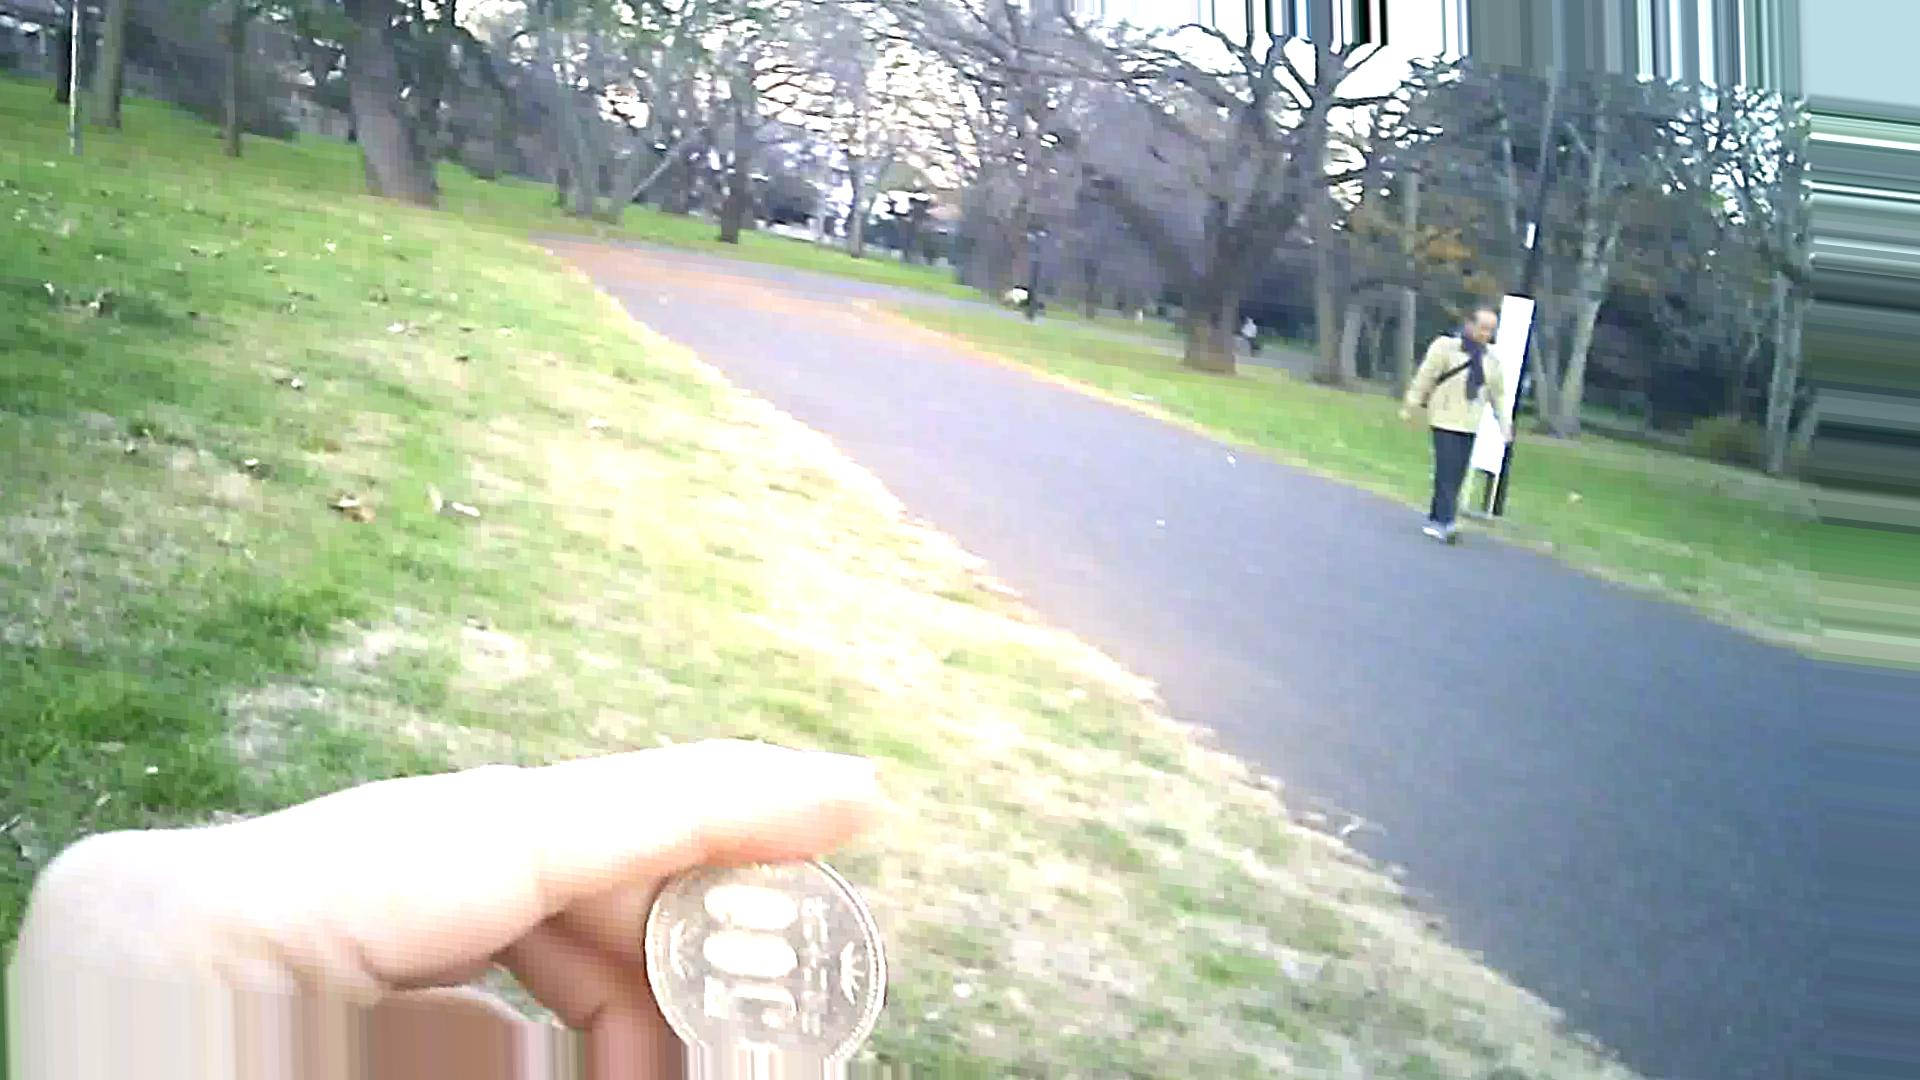500 Yen: (638, 843, 884, 1064)
